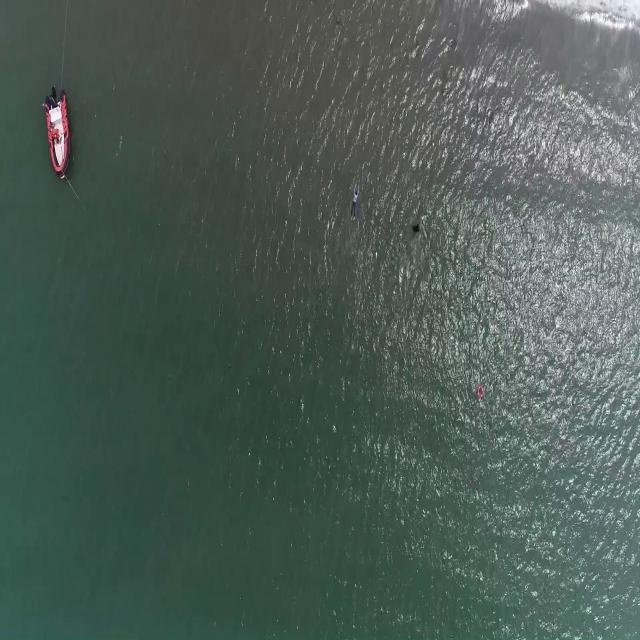boat: (42, 87, 72, 176)
life_buoy: (476, 384, 485, 400)
person: (350, 181, 361, 219), (412, 218, 421, 238)
